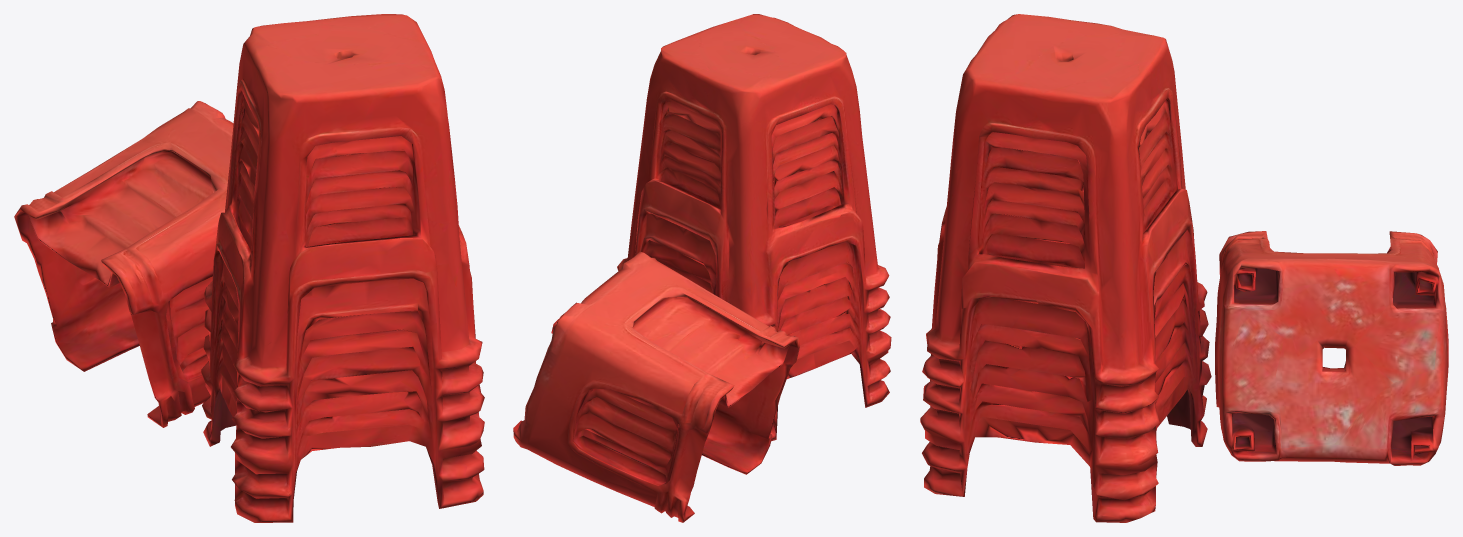
Rendered from stools.glb.
3 renders of one model, left to right at view 1: azimuth 30°, elevation 25°; view 2: azimuth 150°, elevation 25°; view 3: azimuth 270°, elevation 25°, orthographic. The views are drawn at different scales.
Visible parts, largest first — view 1: tripo_node_293a39f6-5d9e-47f7-a456-e19d1bd67c17; view 2: tripo_node_293a39f6-5d9e-47f7-a456-e19d1bd67c17; view 3: tripo_node_293a39f6-5d9e-47f7-a456-e19d1bd67c17.
Boxes of the visible parts, x1=… form: tripo_node_293a39f6-5d9e-47f7-a456-e19d1bd67c17: x1=14, y1=14, x2=484, y2=522; tripo_node_293a39f6-5d9e-47f7-a456-e19d1bd67c17: x1=513, y1=14, x2=891, y2=522; tripo_node_293a39f6-5d9e-47f7-a456-e19d1bd67c17: x1=920, y1=14, x2=1448, y2=522.
Size of the model in its own units: 0.508 by 0.7201 by 0.8459.
Materials: 1 (1 with a texture image).
